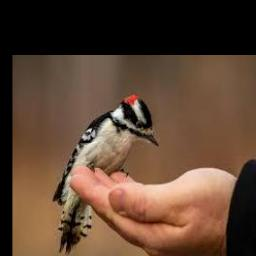Woodpecker: (53, 93, 159, 255)
